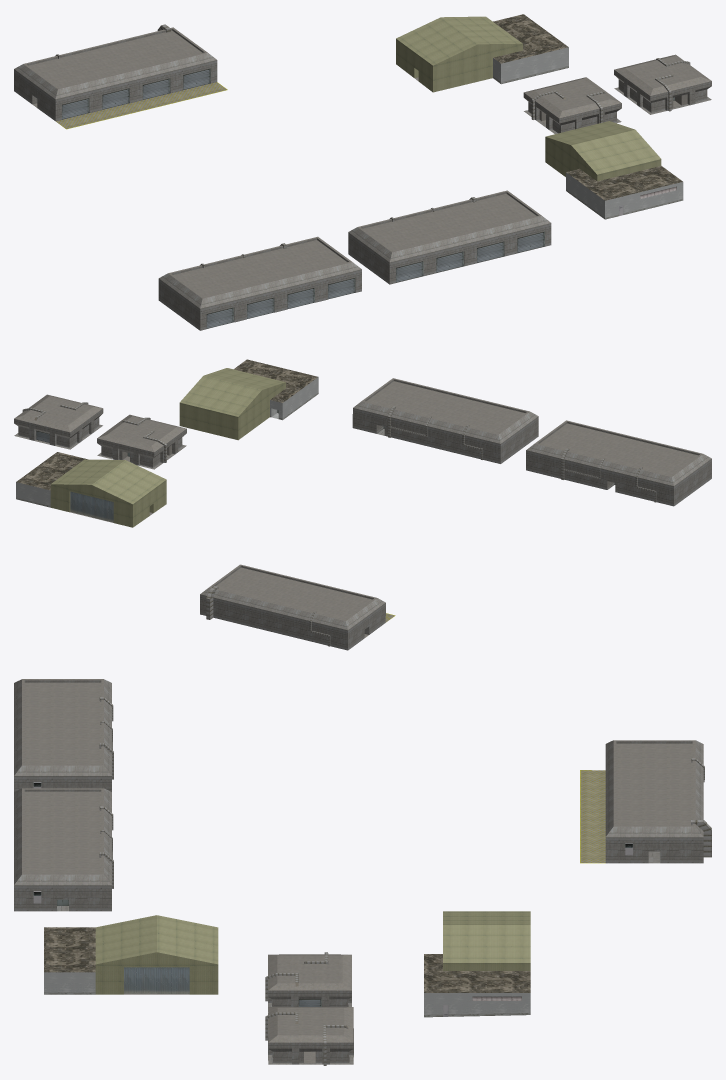
The model's file is a51_outbldgs.obj.
The picture shows the model from 3 angles, top to bottom: view 1: azimuth 30°, elevation 25°; view 2: azimuth 150°, elevation 25°; view 3: azimuth 270°, elevation 25°; orthographic projection. The views are drawn at different scales.
Visible parts, largest first — view 1: a51_outbldgs; view 2: a51_outbldgs; view 3: a51_outbldgs.
Boxes of the visible parts, box(x1,y1,x2,y2) form: a51_outbldgs: box(14, 14, 711, 330); a51_outbldgs: box(14, 359, 711, 650); a51_outbldgs: box(14, 679, 711, 1065).
Bounding box in the file's own units: 138 × 8.8 × 114.
Materials: 27 (27 with a texture image).
